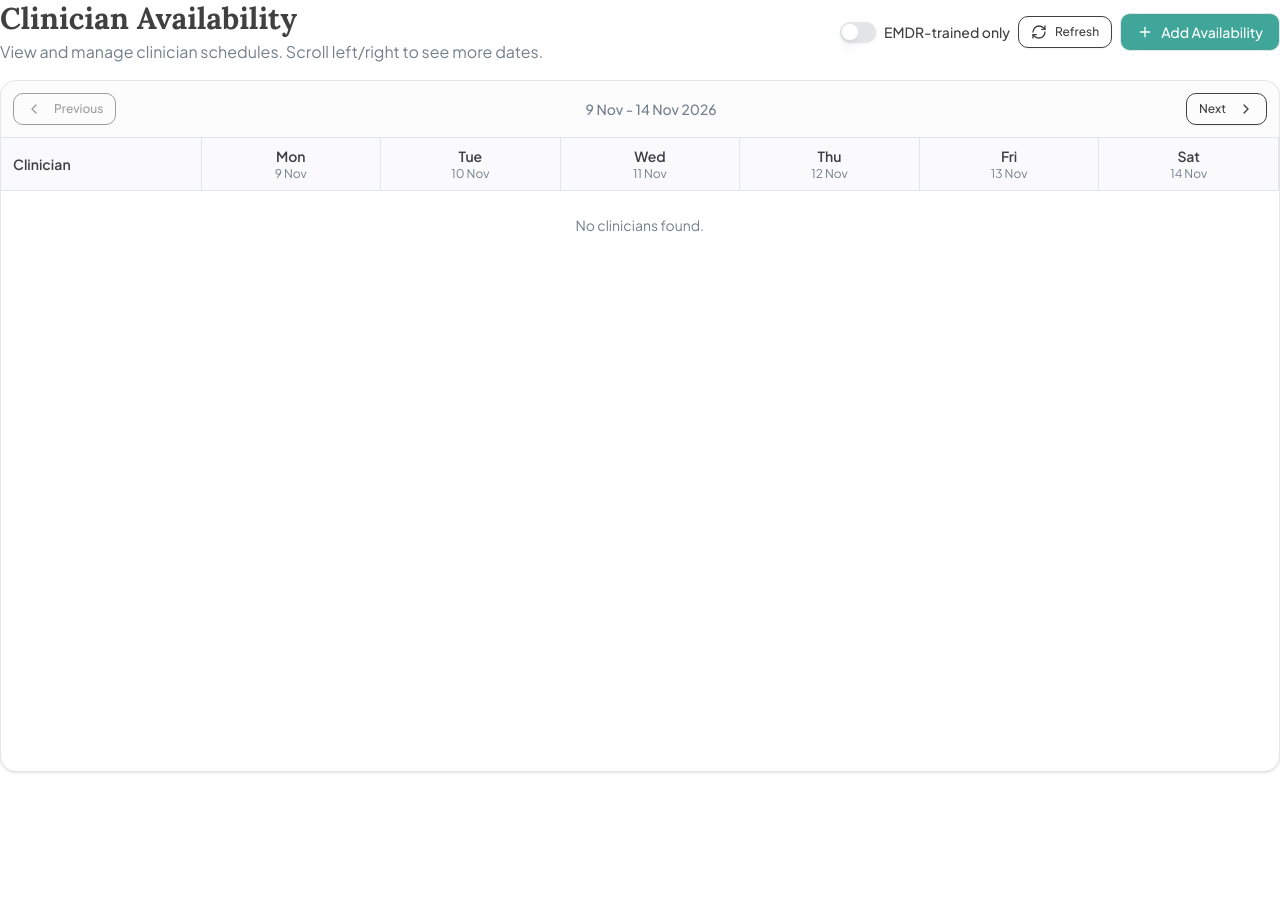
Test: uses CY&A wording in add controls and preserves other-practice wording
Later steps or results of the test are not shown.
What coordinates should you click on to do the following:
click the button with test id "button-add-availability"
I would click on:
 (1200, 32)
Its box is [1120, 13, 1279, 51].
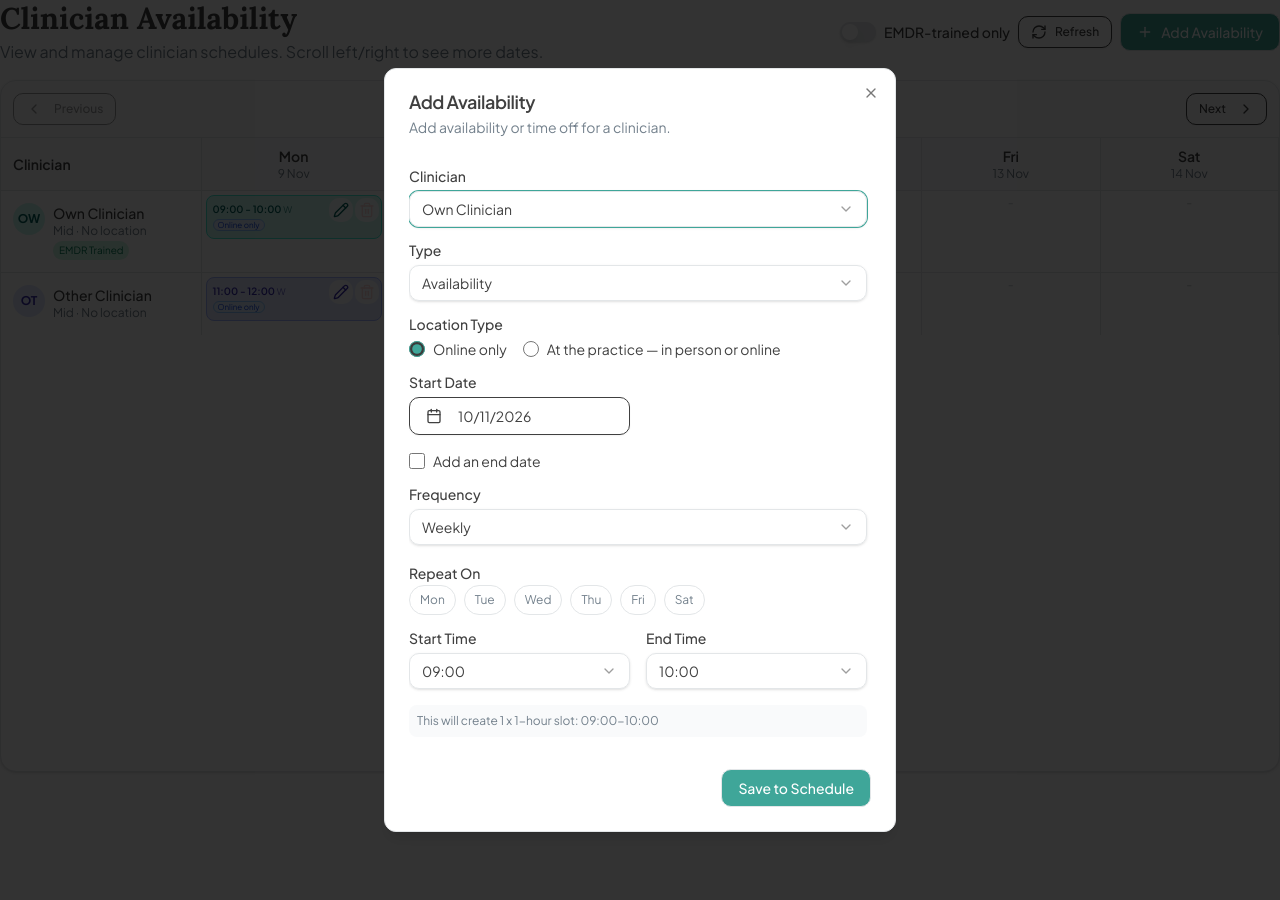
Check: the button "Online only" is shown, box [212, 219, 265, 231]
Check: the text "At the practice — in person or online" is shown, box [547, 339, 780, 359]
